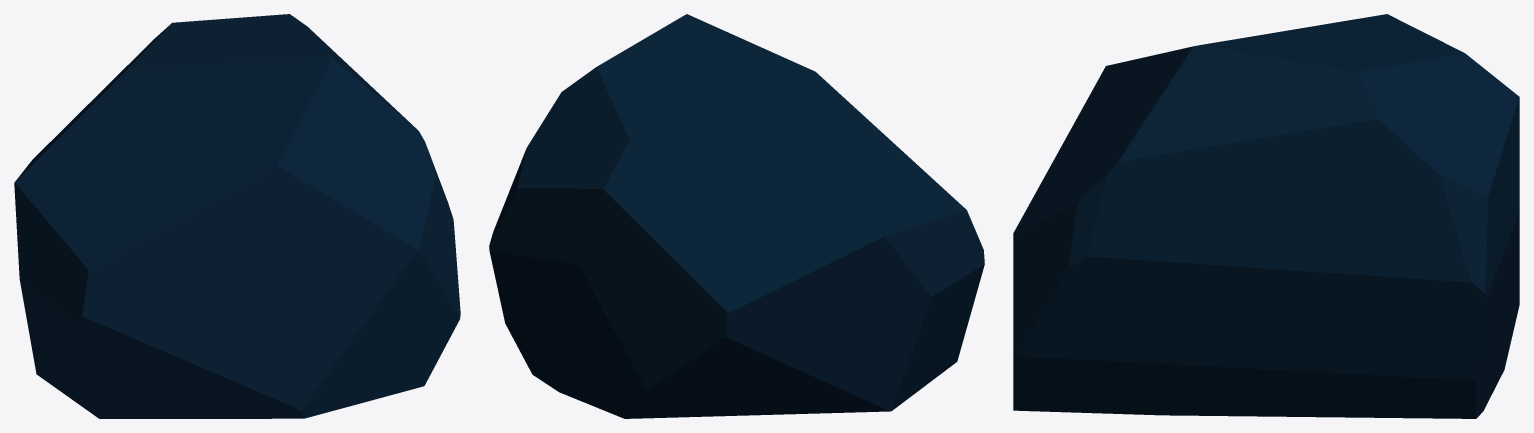
File: roca.glb
3 views of the same model, side by side, from view 1: azimuth 30°, elevation 25°; view 2: azimuth 150°, elevation 25°; view 3: azimuth 270°, elevation 25° (orthographic). The views are drawn at different scales.
Parts seen in each view (by area): view 1: Cube; view 2: Cube; view 3: Cube.
Boxes of the visible parts, left/top/right/bottom form: Cube: left=14, top=14, right=460, bottom=418; Cube: left=489, top=14, right=984, bottom=418; Cube: left=1013, top=14, right=1519, bottom=418.
Bounding box in the file's own units: 2.02 × 1.6 × 2.
